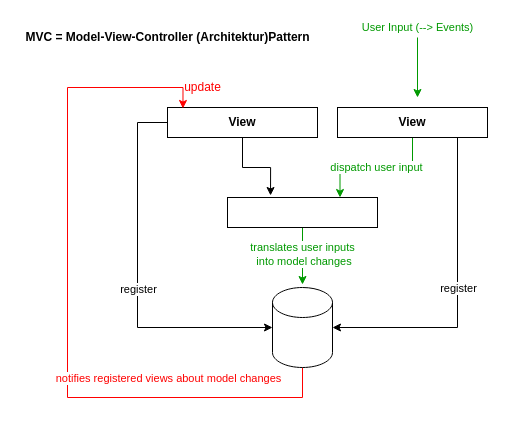
The diagram is 505 pixels wide and 423 high, and some of its shapes have lost their labels. The shapes that lost their labels are listed below. From the top down, each one's centre as x and y in pixels, then its label:
At (x=302, y=212): "Controller".
At (x=302, y=327): "Model".
